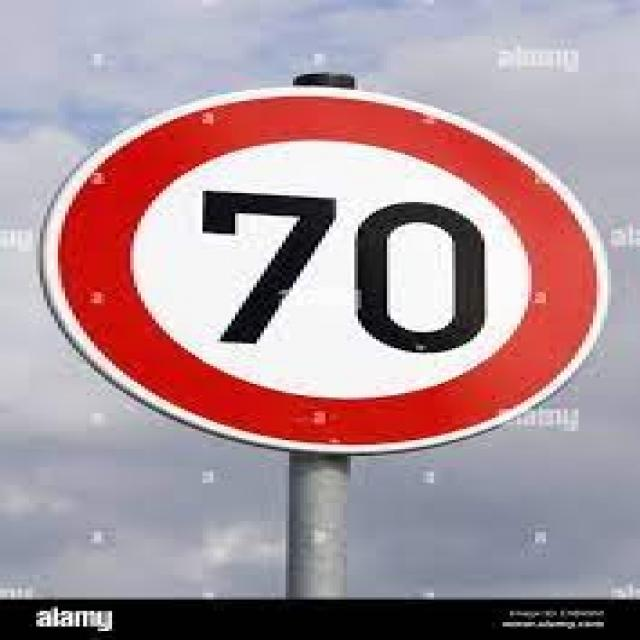speed_limit_70: (39, 82, 608, 458)
